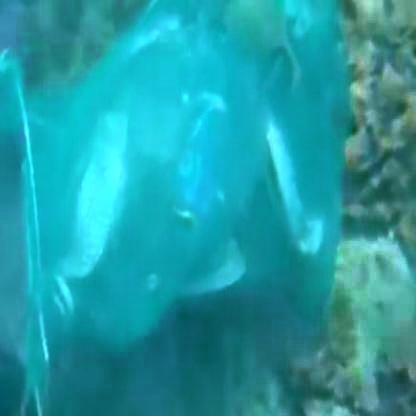plastic: (27, 59, 345, 340)
